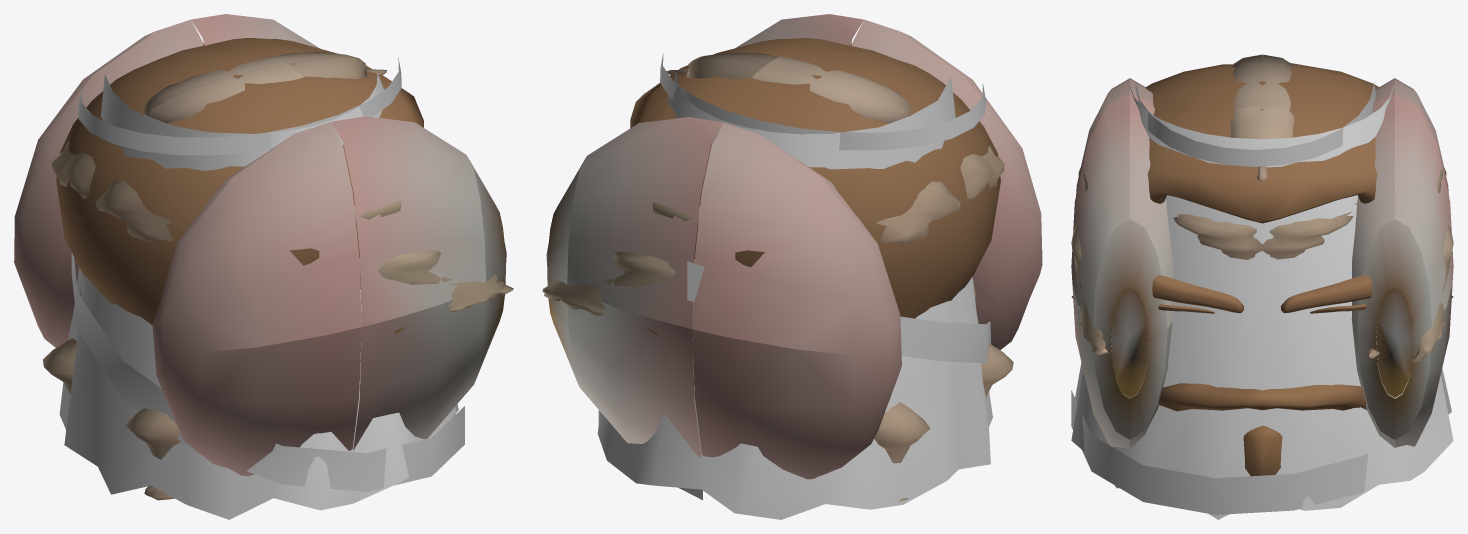
3 views of the same model, side by side, from view 1: azimuth 30°, elevation 25°; view 2: azimuth 150°, elevation 25°; view 3: azimuth 270°, elevation 25° (orthographic). The views are drawn at different scales.
Parts seen in each view (by area): view 1: tex:eye, tex:hair1, fur, tex:skinHide, team; view 2: tex:eye, fur, tex:hair1, tex:skinHide, team; view 3: tex:eye, fur, tex:hair1, team, tex:skinHide.
Boxes of the visible parts, x1,y1,x2,y2 form: tex:eye: (14, 14, 506, 476); tex:hair1: (56, 38, 423, 333); fur: (59, 73, 458, 519); tex:skinHide: (43, 52, 513, 500); team: (71, 57, 464, 491); tex:eye: (546, 14, 1042, 479); fur: (597, 73, 992, 519); tex:hair1: (630, 38, 1000, 384); tex:skinHide: (542, 52, 1013, 501); team: (598, 53, 991, 500); tex:eye: (1071, 78, 1453, 448); fur: (1071, 85, 1453, 519); tex:hair1: (1071, 63, 1453, 476); team: (1071, 82, 1375, 514); tex:skinHide: (1071, 54, 1453, 362).
Size of the model in its own units: 65535 by 65535 by 65535.
